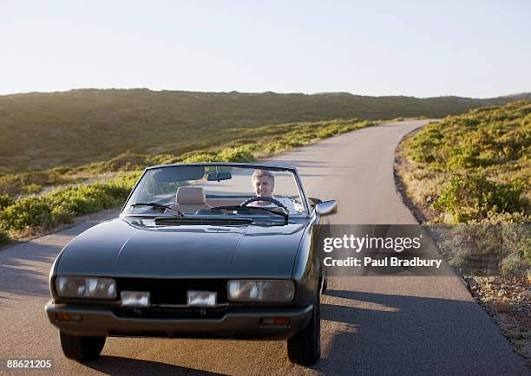car: (45, 161, 340, 354)
